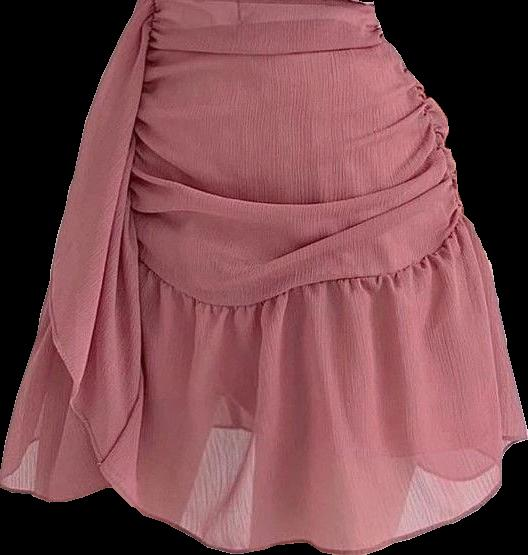Hemline: (0, 3, 527, 554)
Waistline: (135, 212, 468, 306), (146, 35, 392, 57), (133, 0, 385, 4)
